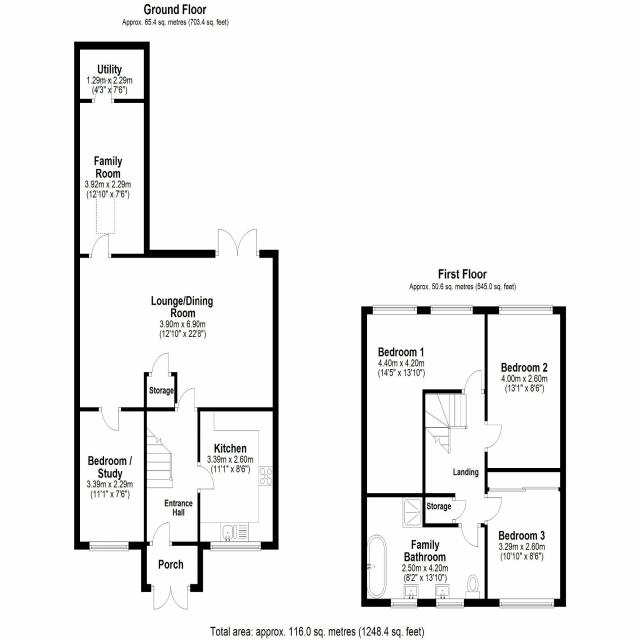DOOR: (91, 79, 115, 103), (177, 385, 196, 413), (463, 369, 483, 395), (197, 465, 216, 492), (484, 423, 503, 450), (484, 496, 503, 523), (460, 522, 479, 549), (91, 233, 110, 259), (100, 406, 119, 432), (152, 521, 171, 546), (451, 499, 468, 522)
DOUBLE DOOR: (216, 227, 258, 258), (150, 585, 191, 611)
ROOM: (74, 228, 279, 434), (361, 304, 488, 498), (484, 304, 566, 473), (74, 77, 150, 258), (197, 407, 279, 552), (485, 468, 566, 609), (74, 407, 147, 552)
WINDOW: (498, 303, 553, 315), (210, 540, 262, 552), (499, 598, 555, 609), (372, 303, 418, 316), (430, 304, 474, 316), (89, 541, 129, 552), (435, 598, 465, 609), (390, 598, 418, 609)
